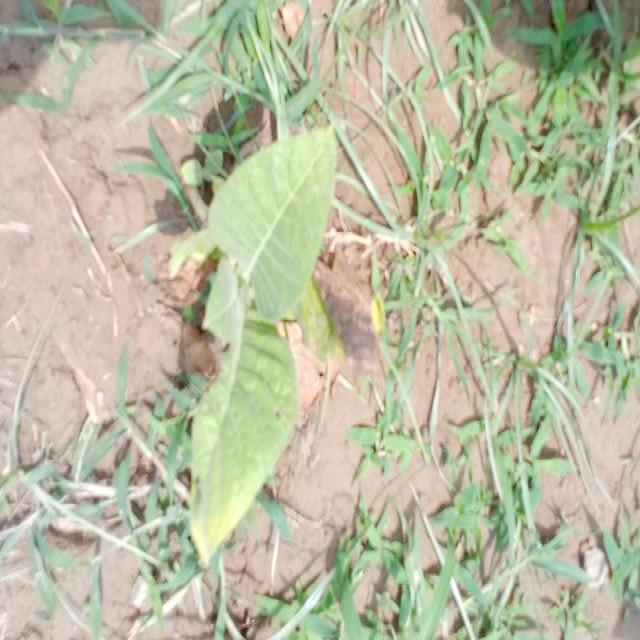crop: (178, 123, 338, 554)
